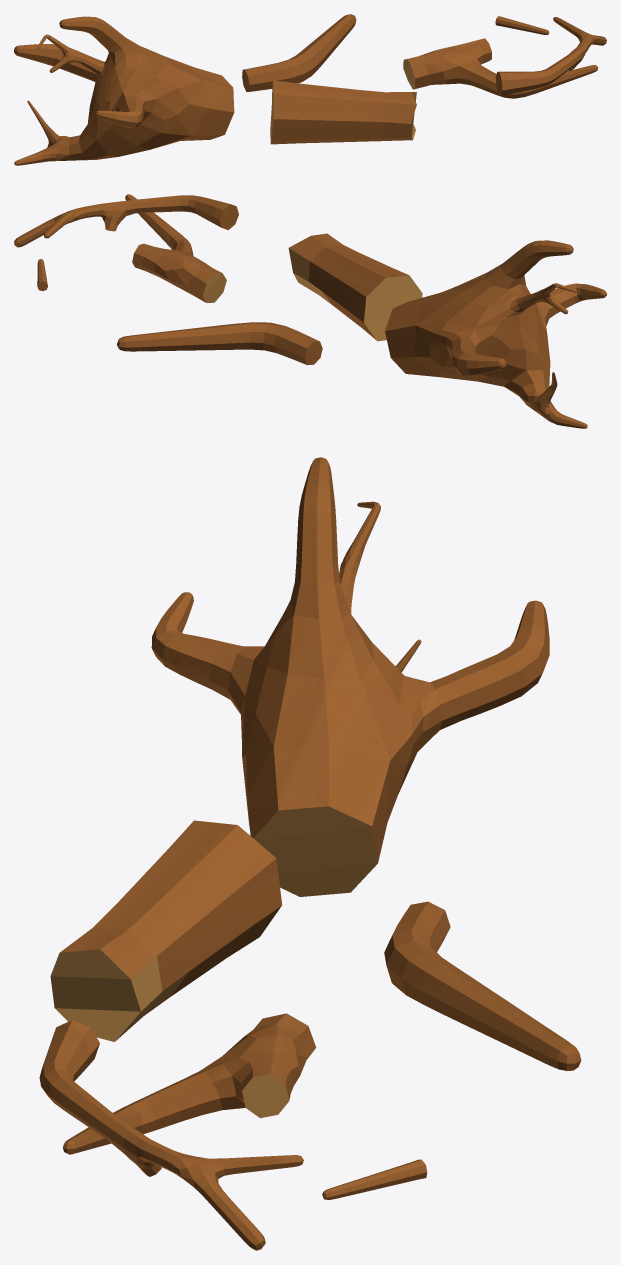
File: Tree_01_B.fbx
3 views of the same model, one above another, from view 1: azimuth 30°, elevation 25°; view 2: azimuth 150°, elevation 25°; view 3: azimuth 270°, elevation 25° (orthographic). The views are drawn at different scales.
Visible parts, largest first — view 1: Tree_01_B; view 2: Tree_01_B; view 3: Tree_01_B.
Boxes of the visible parts, x1,y1,x2,y2 form: Tree_01_B: [14, 14, 606, 165]; Tree_01_B: [14, 194, 606, 428]; Tree_01_B: [39, 457, 581, 1250].
Size of the model in its own units: 759 by 197 by 318.
